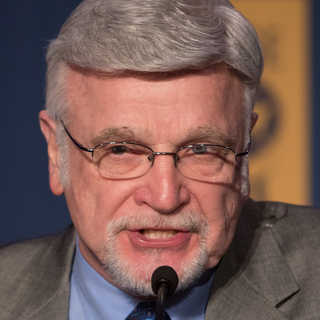eye: (181, 139, 229, 163), (99, 140, 143, 161)
